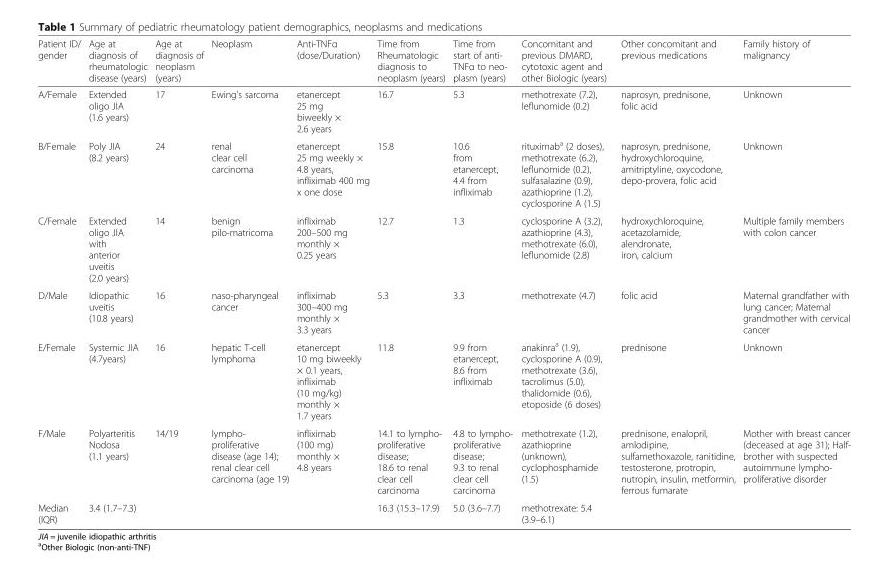table: (38, 36, 850, 524)
table column: (614, 36, 739, 524), (739, 36, 850, 524), (517, 36, 614, 524), (207, 36, 293, 524), (293, 36, 373, 524), (373, 36, 449, 524), (449, 36, 517, 524), (85, 36, 151, 524), (151, 36, 207, 524), (38, 36, 85, 524)
table column header: (38, 36, 850, 85)
table row: (38, 337, 850, 423), (38, 136, 850, 211), (38, 211, 850, 286), (38, 423, 850, 498), (38, 85, 850, 136), (38, 286, 850, 337), (38, 36, 850, 85), (38, 498, 850, 524)
table spanning cell: (614, 423, 739, 524), (739, 423, 850, 524), (207, 423, 293, 524), (293, 423, 373, 524), (151, 423, 207, 524)
